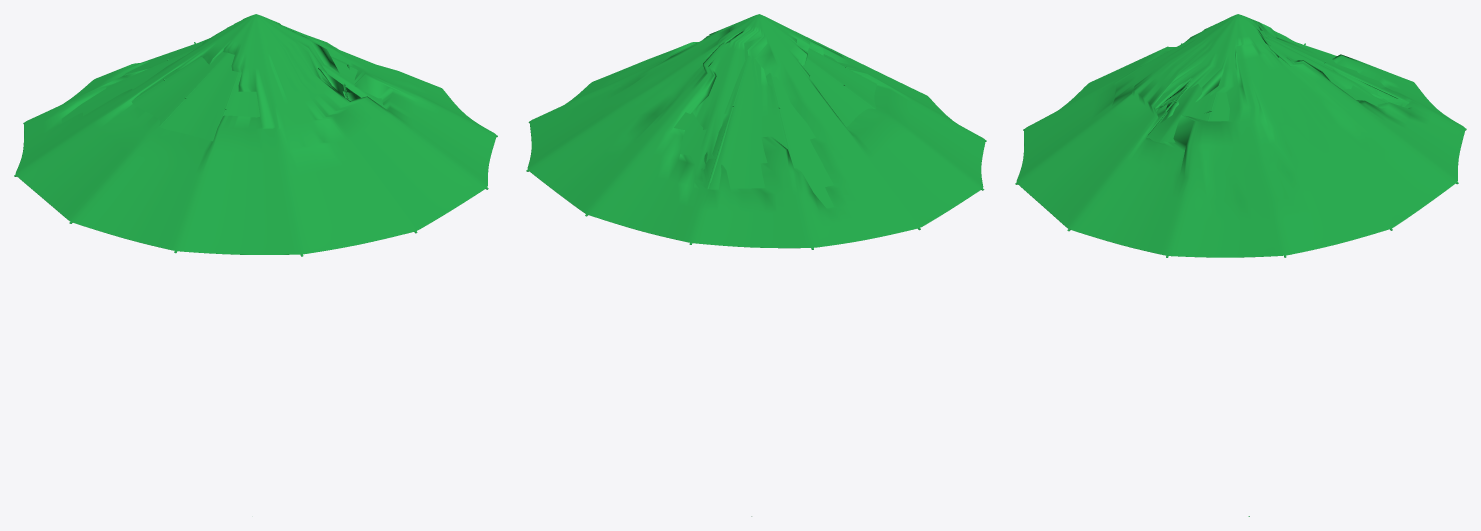
File: umbrela1.obj
The picture shows the model from 3 angles, left to right: view 1: azimuth 30°, elevation 25°; view 2: azimuth 150°, elevation 25°; view 3: azimuth 270°, elevation 25°; orthographic projection.
Visible parts, largest first — view 1: 10243_Patio_Umbrella_Open_v1_Iteration2.001; view 2: 10243_Patio_Umbrella_Open_v1_Iteration2.001; view 3: 10243_Patio_Umbrella_Open_v1_Iteration2.001.
Boxes of the visible parts, x1,y1,x2,y2 form: 10243_Patio_Umbrella_Open_v1_Iteration2.001: (14, 14, 497, 256); 10243_Patio_Umbrella_Open_v1_Iteration2.001: (526, 14, 986, 516); 10243_Patio_Umbrella_Open_v1_Iteration2.001: (1015, 14, 1466, 516).
Bounding box in the file's own units: 16.79 × 19.48 × 15.88.
1 material, 1 textured.
